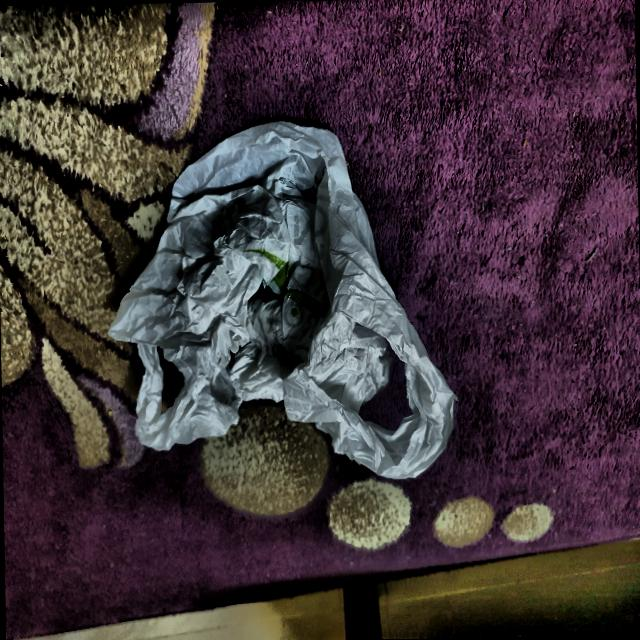plastic bag: (104, 100, 472, 501)
